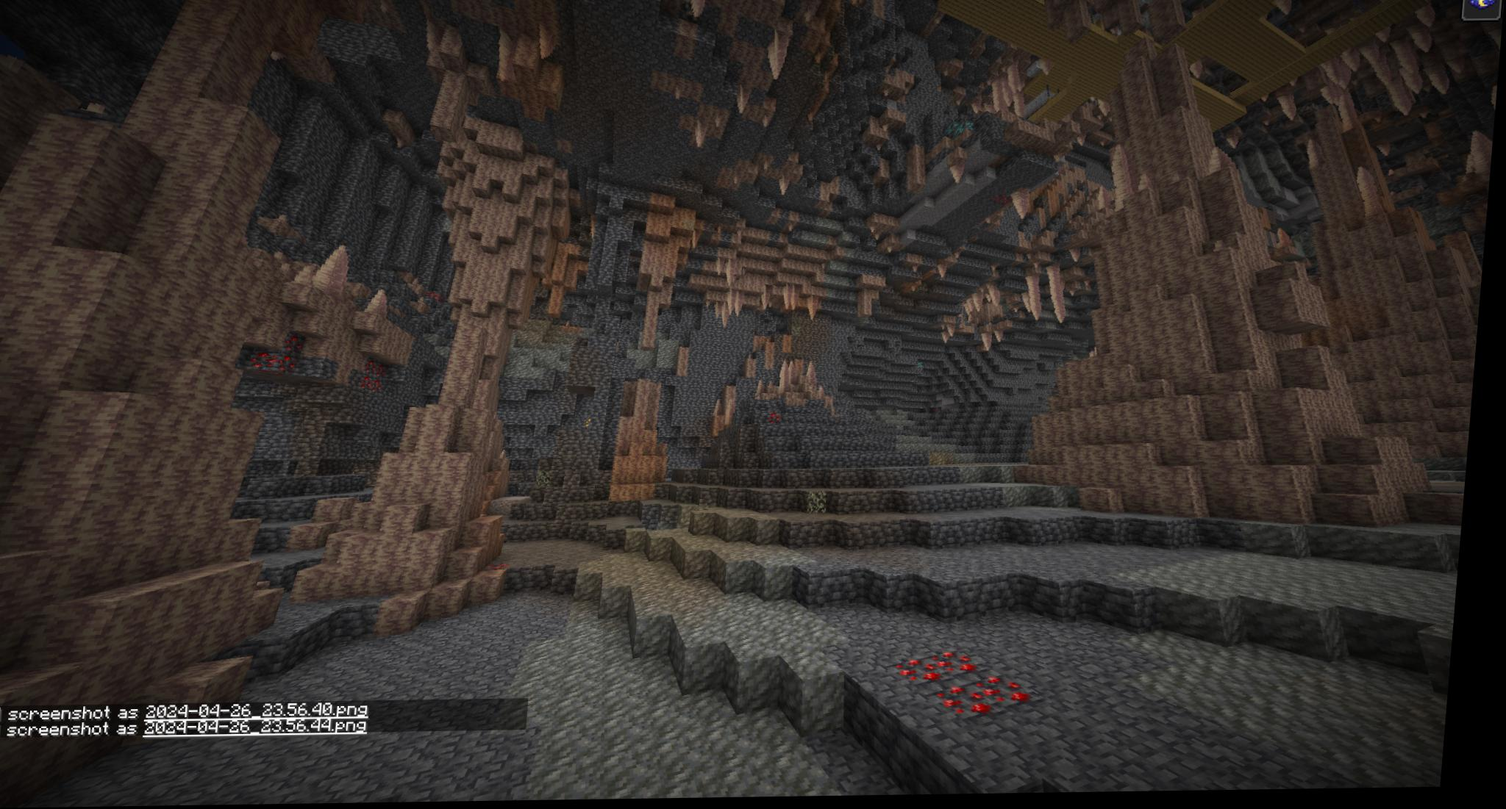redstone ore: (898, 644, 1039, 726), (255, 331, 303, 383), (356, 357, 397, 396)
